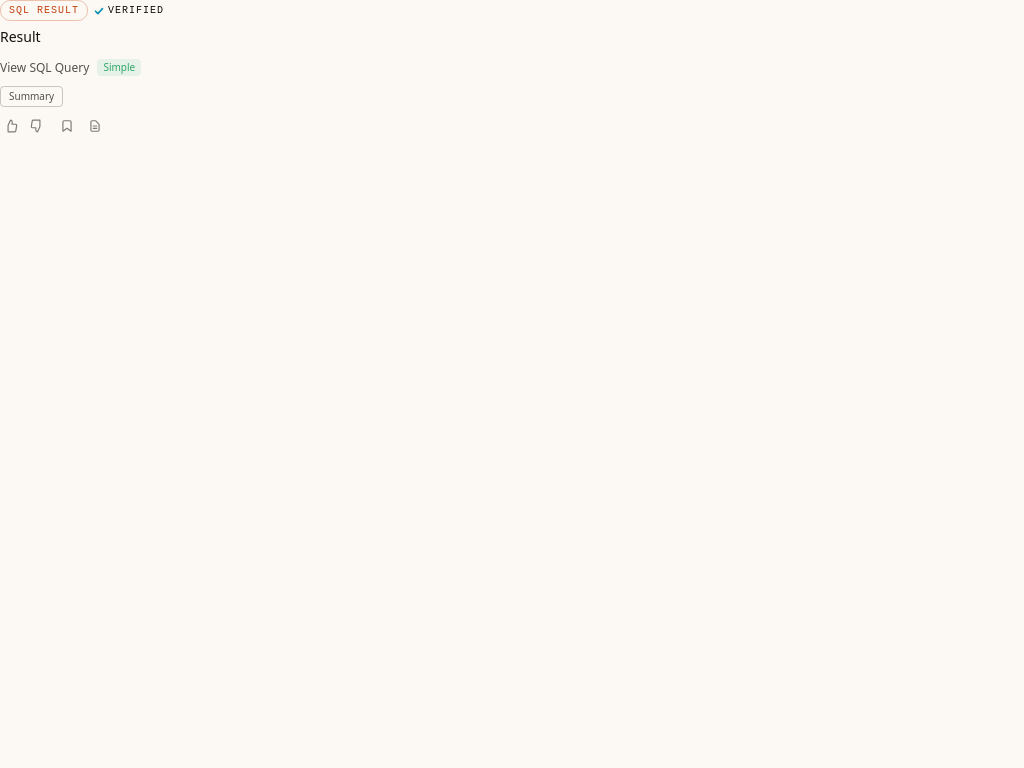
ChatMessage › closes the investigation without sending anything
Click the button titled "Not helpful". click: x=37, y=126
box: [26, 115, 48, 137]
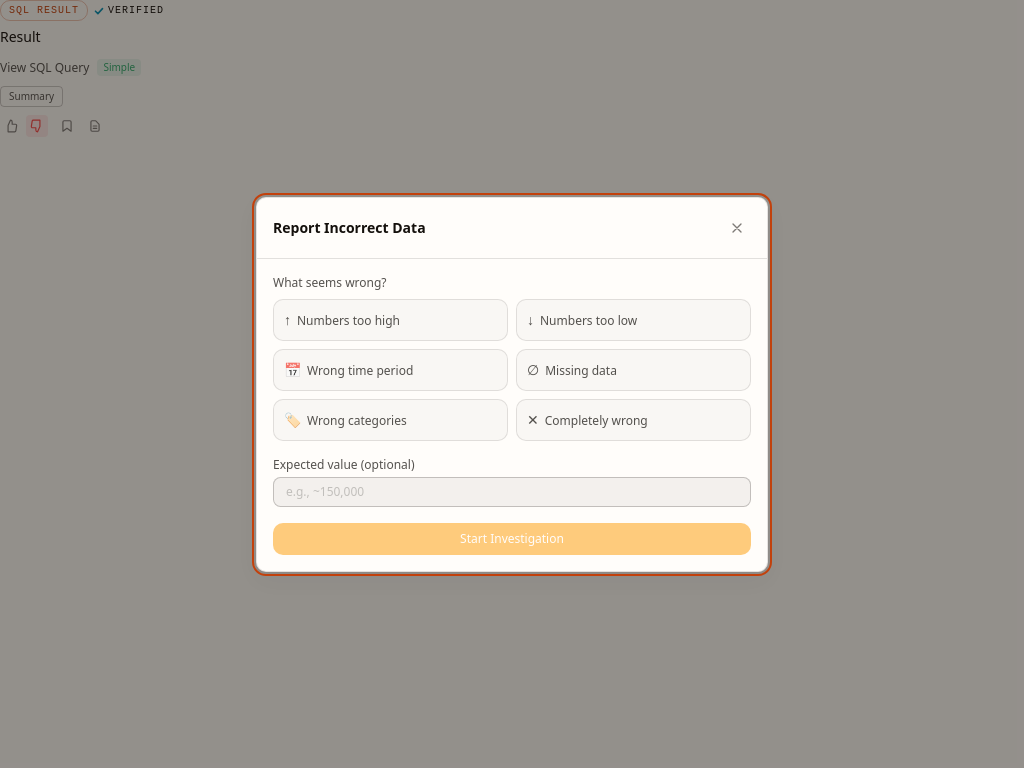
Now the dialog is shown, box [256, 196, 768, 572]
Press Escape
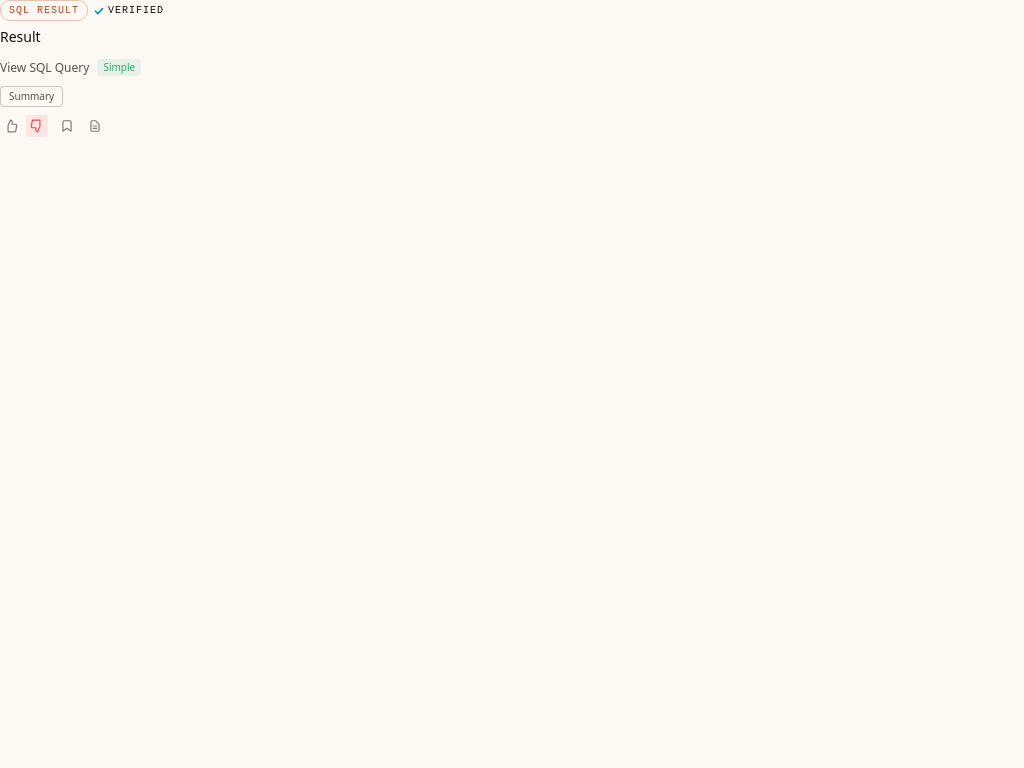
Now the dialog is gone
